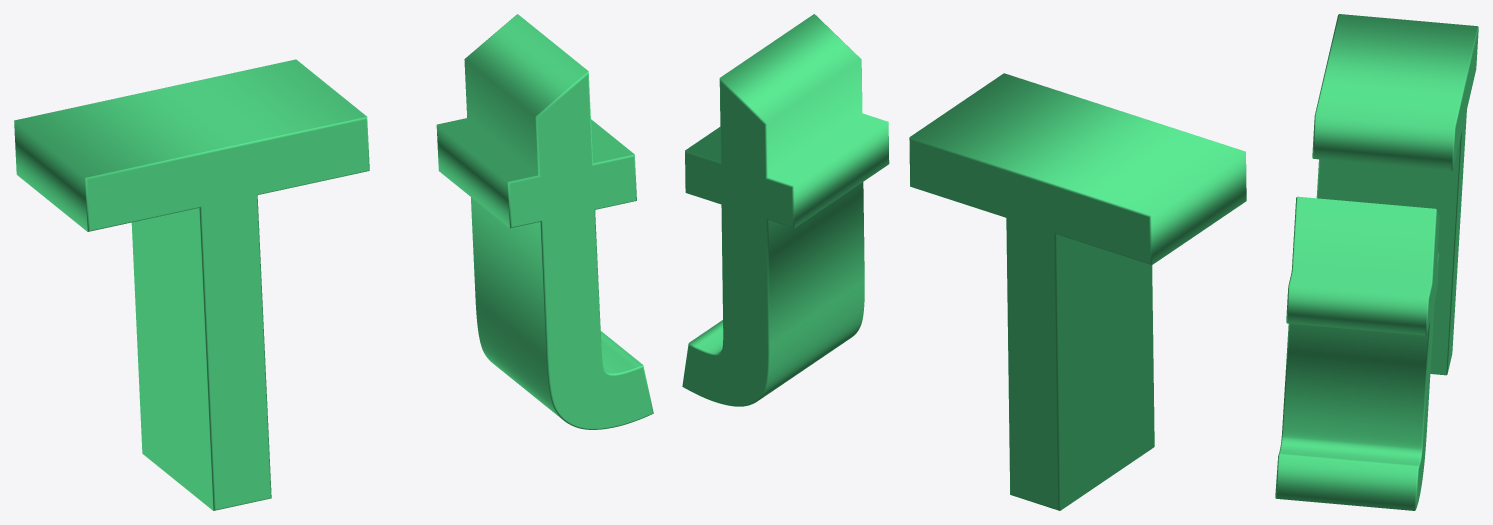
Rendered from ObjectT.fbx.
3 views of the same model, side by side, from view 1: azimuth 30°, elevation 25°; view 2: azimuth 150°, elevation 25°; view 3: azimuth 270°, elevation 25° (orthographic). The views are drawn at different scales.
Visible parts, largest first — view 1: Text; view 2: Text; view 3: Text.
Boxes of the visible parts, x1,y1,x2,y2 form: Text: [14, 14, 653, 510]; Text: [682, 14, 1246, 510]; Text: [1275, 14, 1478, 510].
Bounding box in the file's own units: 222 × 142 × 88.19.
